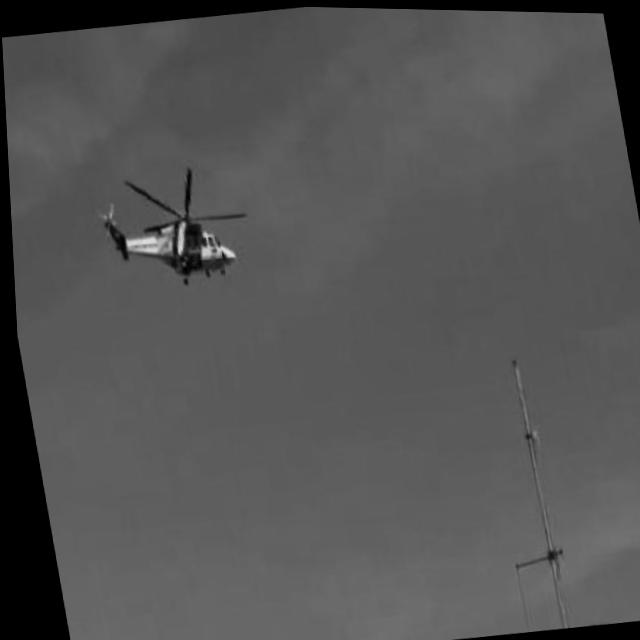helikopter: (81, 151, 268, 309)
